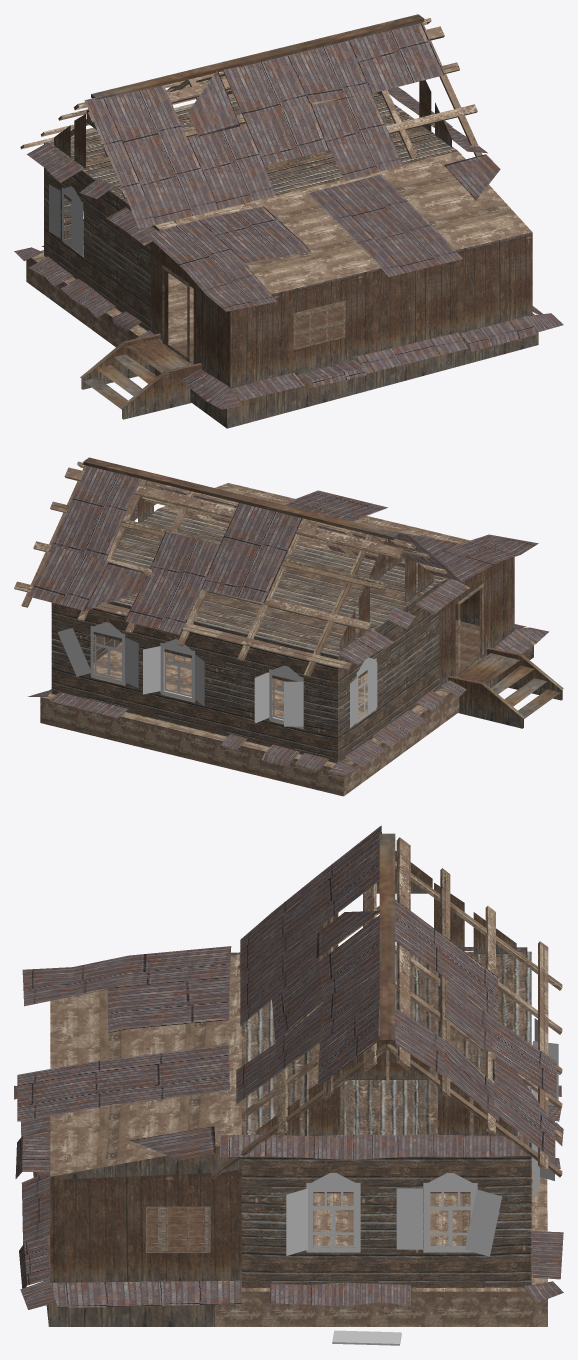
Rendered from level_1_house.fbx.
The picture shows the model from 3 angles, top to bottom: view 1: azimuth 30°, elevation 25°; view 2: azimuth 150°, elevation 25°; view 3: azimuth 270°, elevation 25°; orthographic projection. The views are drawn at different scales.
Parts seen in each view (by area): view 1: LOD_02_WerandaWood; view 2: LOD_02_WerandaWood; view 3: LOD_02_WerandaWood.
Boxes of the visible parts, x1,y1,x2,y2 form: LOD_02_WerandaWood: [14, 14, 563, 428]; LOD_02_WerandaWood: [14, 457, 563, 796]; LOD_02_WerandaWood: [14, 825, 563, 1345].
Bounding box in the file's own units: 11.1 × 5.88 × 9.81.
